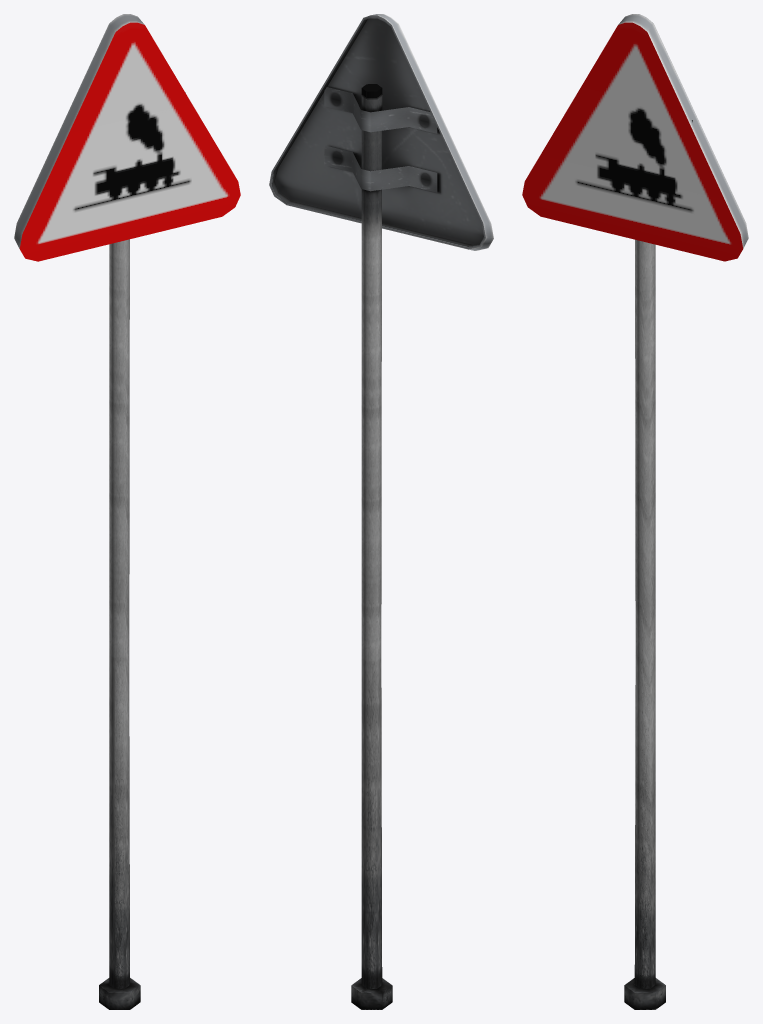
File: ROD0310092.FBX
3 views of the same model, side by side, from view 1: azimuth 30°, elevation 25°; view 2: azimuth 150°, elevation 25°; view 3: azimuth 330°, elevation 25° (orthographic).
Parts seen in each view (by area): view 1: smROD0310092; view 2: smROD0310092; view 3: smROD0310092.
Boxes of the visible parts, box(x1,y1,x2,y2) form: smROD0310092: box(14, 14, 240, 1009); smROD0310092: box(269, 14, 493, 1009); smROD0310092: box(522, 14, 748, 1009).
Bounding box in the file's own units: 0.7052 × 3.02 × 0.1216.
Materials: 1 (1 with a texture image).
